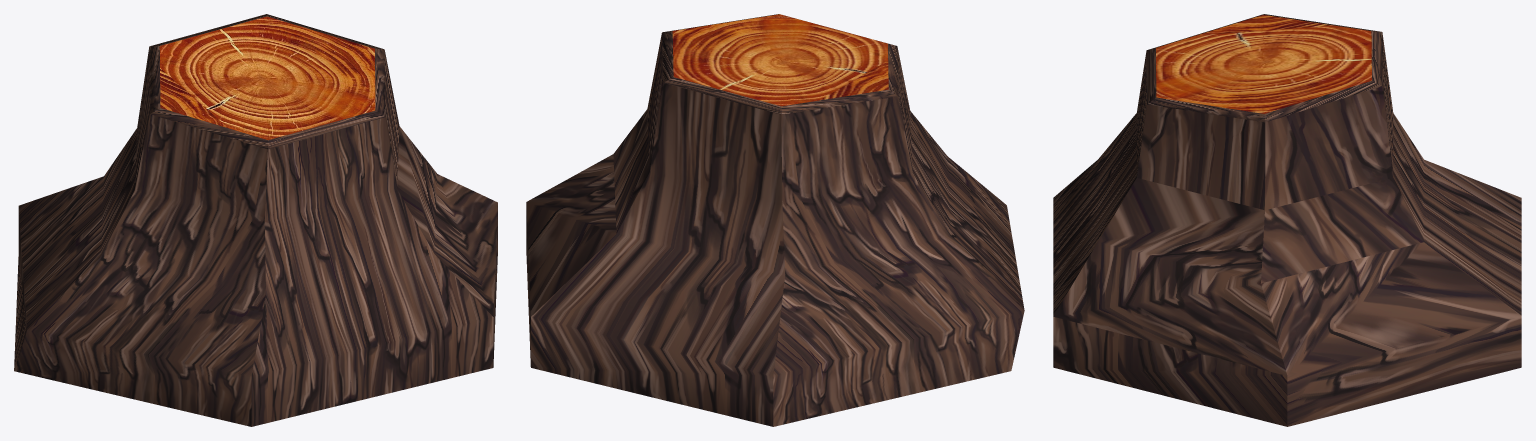
The model's file is OniscideaTrunk.fbx.
The picture shows the model from 3 angles, left to right: view 1: azimuth 30°, elevation 25°; view 2: azimuth 150°, elevation 25°; view 3: azimuth 270°, elevation 25°; orthographic projection.
Visible parts, largest first — view 1: Oniscidea_obj_BranchTrunkV1:pCylinder2; view 2: Oniscidea_obj_BranchTrunkV1:pCylinder2; view 3: Oniscidea_obj_BranchTrunkV1:pCylinder2.
Part boxes in pixels (x1,y1,x2,y2): Oniscidea_obj_BranchTrunkV1:pCylinder2: (14, 14, 497, 426); Oniscidea_obj_BranchTrunkV1:pCylinder2: (526, 14, 1024, 426); Oniscidea_obj_BranchTrunkV1:pCylinder2: (1053, 14, 1521, 426).
Bounding box in the file's own units: 2.85 × 1.42 × 2.38.
